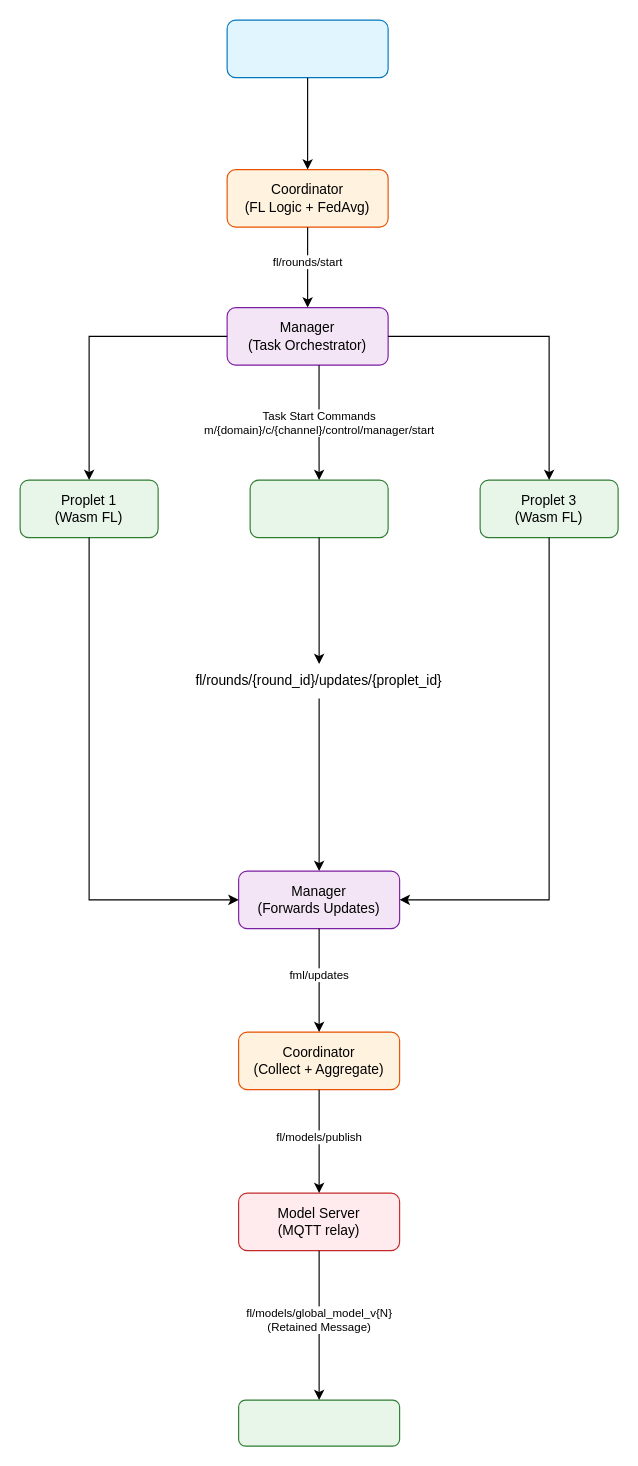
Image size: 638x1466. Some labels were removed from this diagram. The shapes that lost their labels are listed below. From the top down, each one's box as (x1, y1, x2, y2) in pixels, then its label:
(226, 19, 388, 78): External Trigger Test Script
(249, 479, 388, 538): Proplet 2 (Wasm FL)
(237, 1399, 400, 1446): Proplets (Model Receiver)
